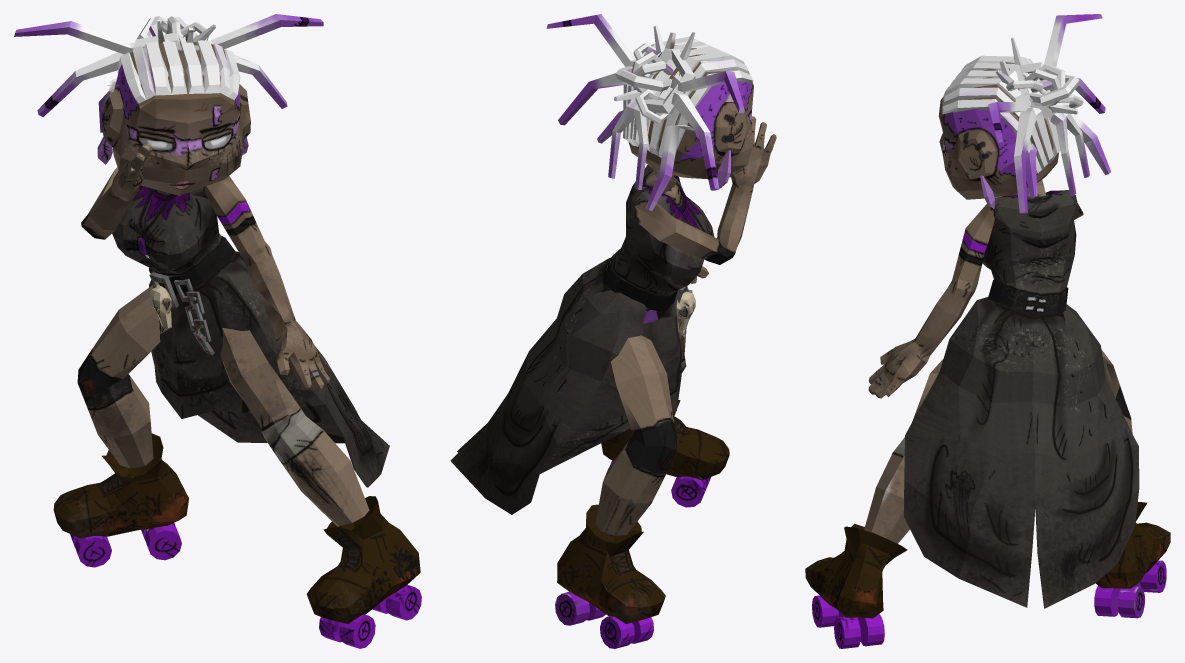
Rendered from bruja_000027.obj.
3 views of the same model, side by side, from view 1: azimuth 30°, elevation 25°; view 2: azimuth 150°, elevation 25°; view 3: azimuth 270°, elevation 25° (orthographic). The views are drawn at different scales.
Visible parts, largest first — view 1: Bruja_Plane.001; view 2: Bruja_Plane.001; view 3: Bruja_Plane.001.
Part boxes in pixels (x1,y1,x2,y2): Bruja_Plane.001: (14, 14, 421, 648); Bruja_Plane.001: (450, 14, 776, 648); Bruja_Plane.001: (805, 14, 1170, 648).
Size of the model in its own units: 9.26 by 15.45 by 9.24.
